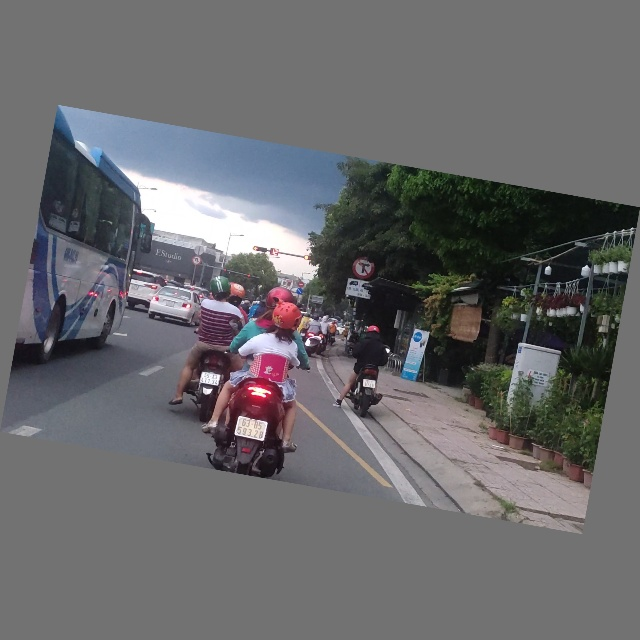P.102: (297, 281, 305, 289)
P.124a*: (191, 255, 203, 267)
P.137: (349, 255, 377, 282)
R.302a: (296, 288, 304, 296)
